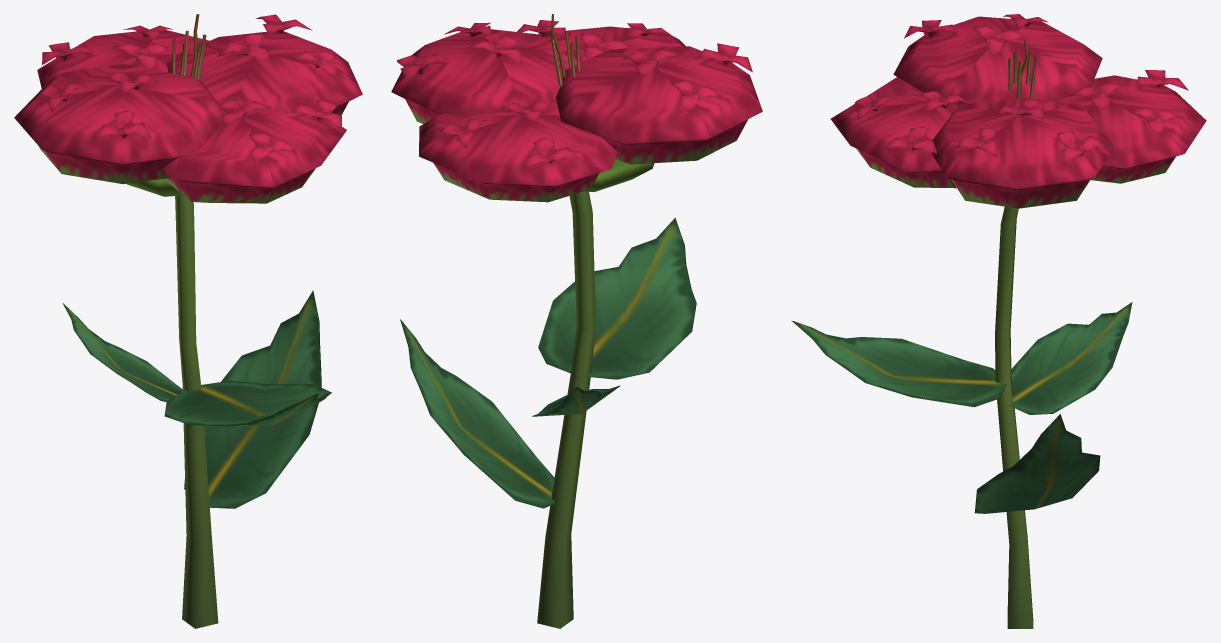
File: WildFlower_Valeriana.fbx
3 renders of one model, left to right at view 1: azimuth 30°, elevation 25°; view 2: azimuth 150°, elevation 25°; view 3: azimuth 270°, elevation 25°, orthographic. The views are drawn at different scales.
Parts seen in each view (by area): view 1: WildFlower_Valeriana; view 2: WildFlower_Valeriana; view 3: WildFlower_Valeriana.
Part boxes in pixels (box(x1,y1,x2,y2)): WildFlower_Valeriana: box(14, 14, 362, 628); WildFlower_Valeriana: box(391, 14, 762, 628); WildFlower_Valeriana: box(791, 14, 1206, 628).
Bounding box in the file's own units: 21.97 × 38.61 × 24.95.
